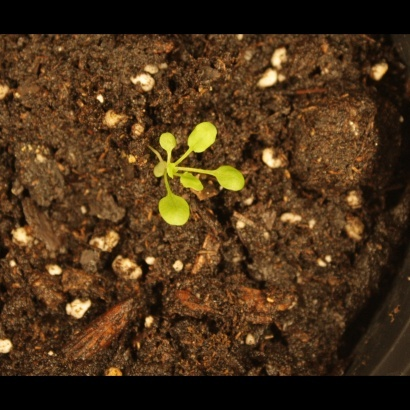leaf: (156, 191, 195, 229), (186, 115, 220, 157), (213, 163, 248, 195), (180, 169, 208, 194), (156, 130, 179, 153), (144, 160, 167, 183)
